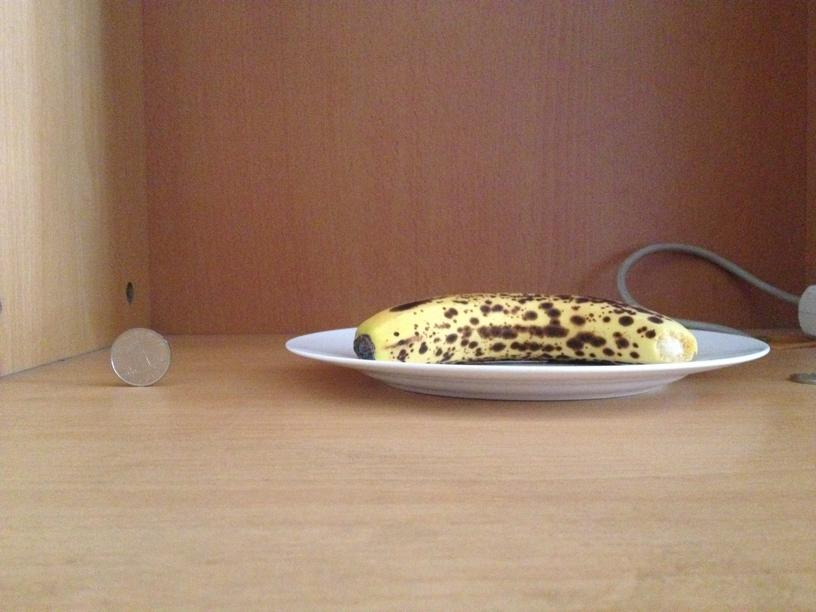banana: (354, 289, 691, 363)
coin: (108, 326, 172, 387)
